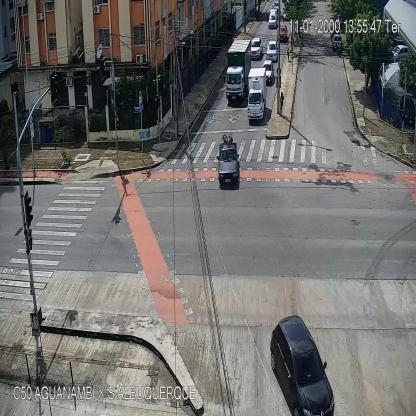car: (271, 316, 333, 416), (217, 141, 241, 185), (262, 59, 274, 86), (266, 38, 279, 62), (250, 37, 262, 58), (268, 8, 277, 29), (278, 23, 288, 41), (332, 34, 342, 48)
motorbike: (336, 40, 340, 56)
person: (279, 92, 284, 116), (286, 42, 290, 62)
truck: (224, 38, 252, 106), (248, 67, 266, 122)
